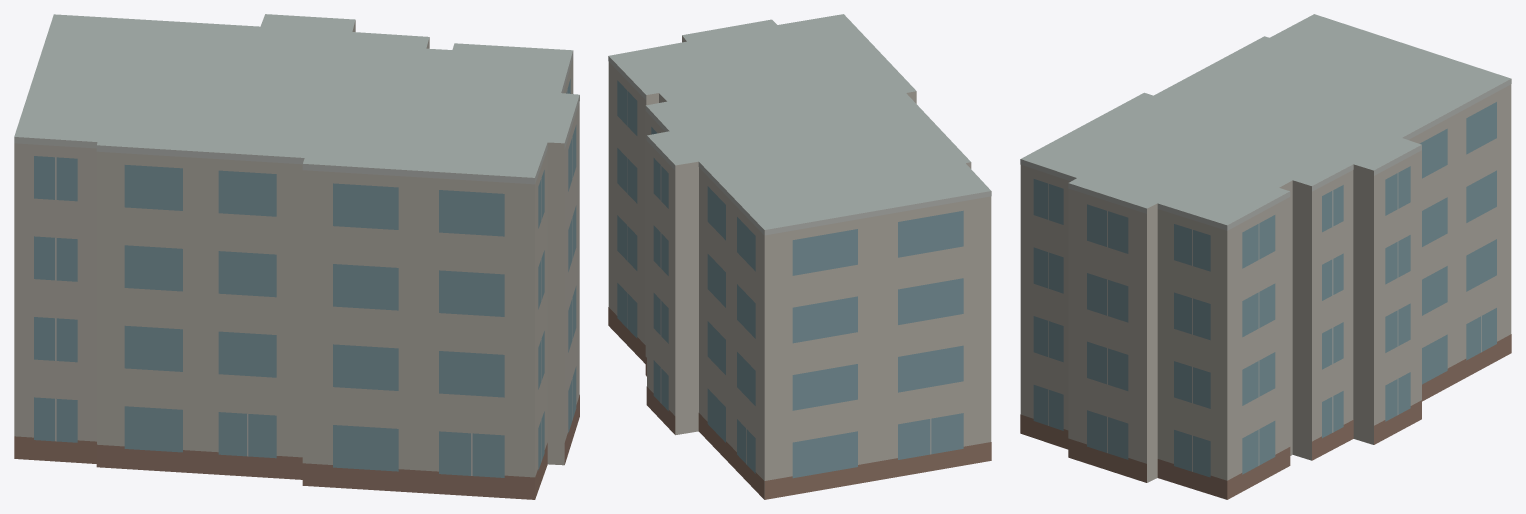
Rendered from survey-upis-32798343.glb.
3 views of the same model, side by side, from view 1: azimuth 30°, elevation 25°; view 2: azimuth 150°, elevation 25°; view 3: azimuth 270°, elevation 25° (orthographic). The views are drawn at different scales.
Parts seen in each view (by area): view 1: survey-upis-32798343.tmp; view 2: survey-upis-32798343.tmp; view 3: survey-upis-32798343.tmp.
Boxes of the visible parts, left/top/right/bottom form: survey-upis-32798343.tmp: left=14, top=14, right=579, bottom=499; survey-upis-32798343.tmp: left=608, top=14, right=991, bottom=499; survey-upis-32798343.tmp: left=1020, top=14, right=1511, bottom=499.
Size of the model in its own units: 20.16 by 12.2 by 19.78.
